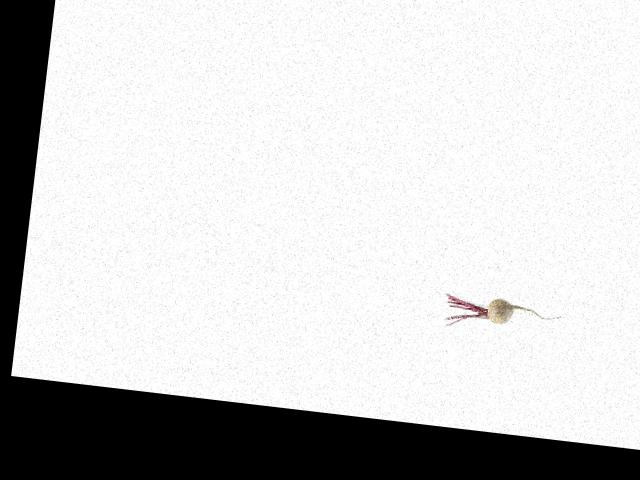beet: (443, 292, 563, 337)
